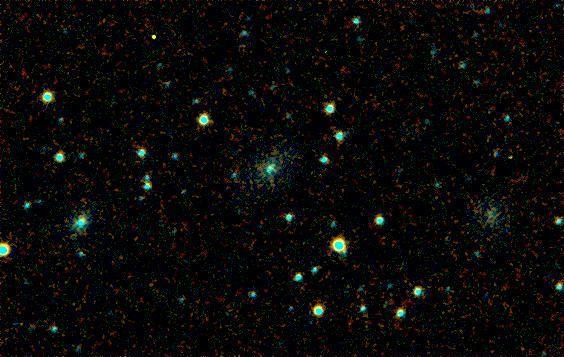star: (139, 21, 169, 51)
